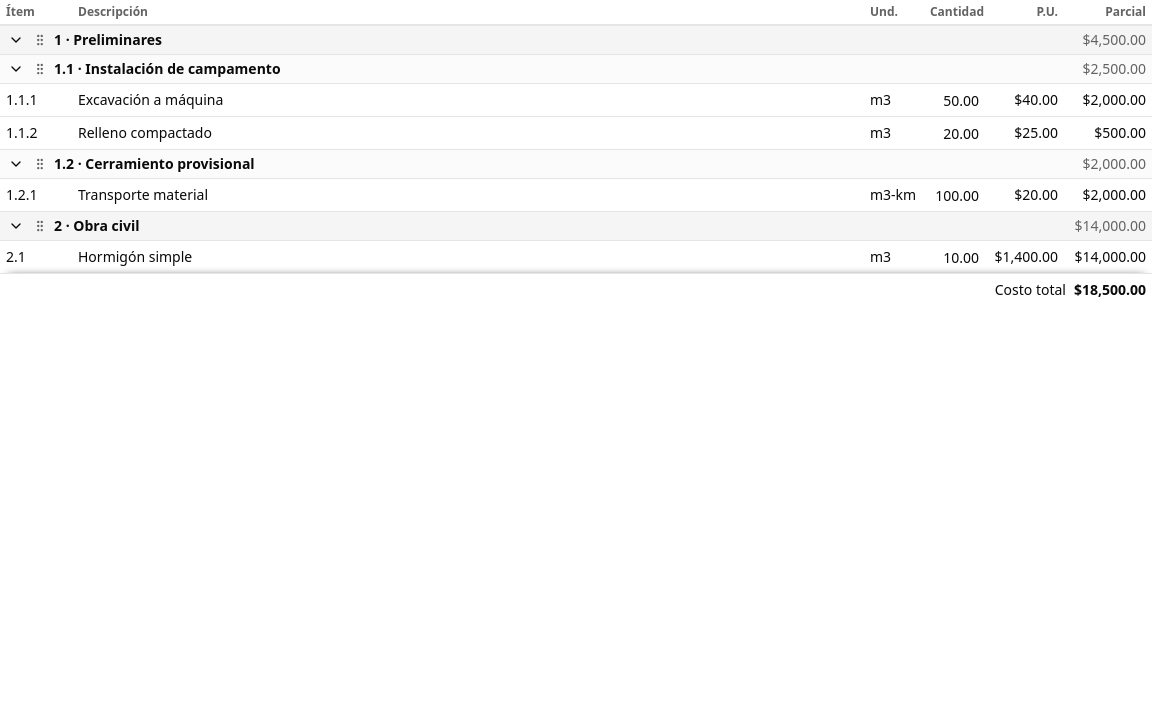
Test: PresupuestoCompacto › ofrece un menú contextual para las filas de APU y confirma su retiro
Right-click the row "1.1.1 Excavación a máquina m3 $40.00 $2,000.00".
right_click(576, 100)  # box x1=0 y1=84 x2=1151 y2=116
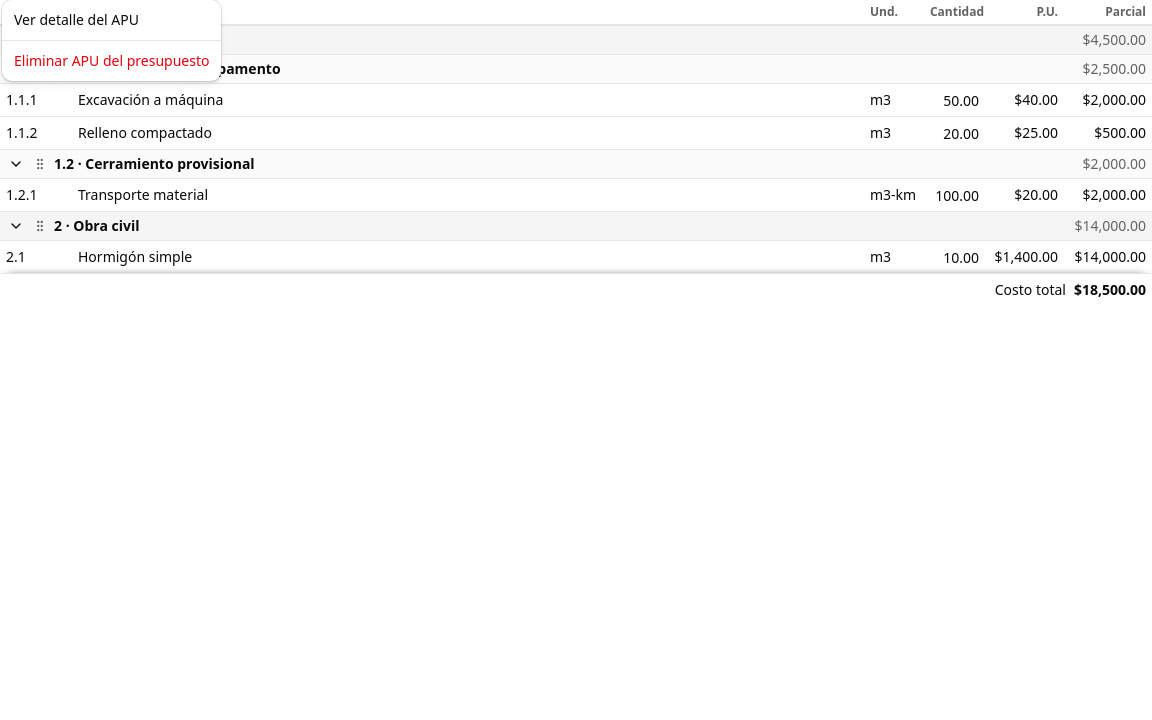
Now the menu item "Ver detalle del APU" is shown, box x1=14 y1=10 x2=139 y2=29
Click the menu item "Eliminar APU del presupuesto".
click(112, 60)  # box x1=14 y1=51 x2=210 y2=70
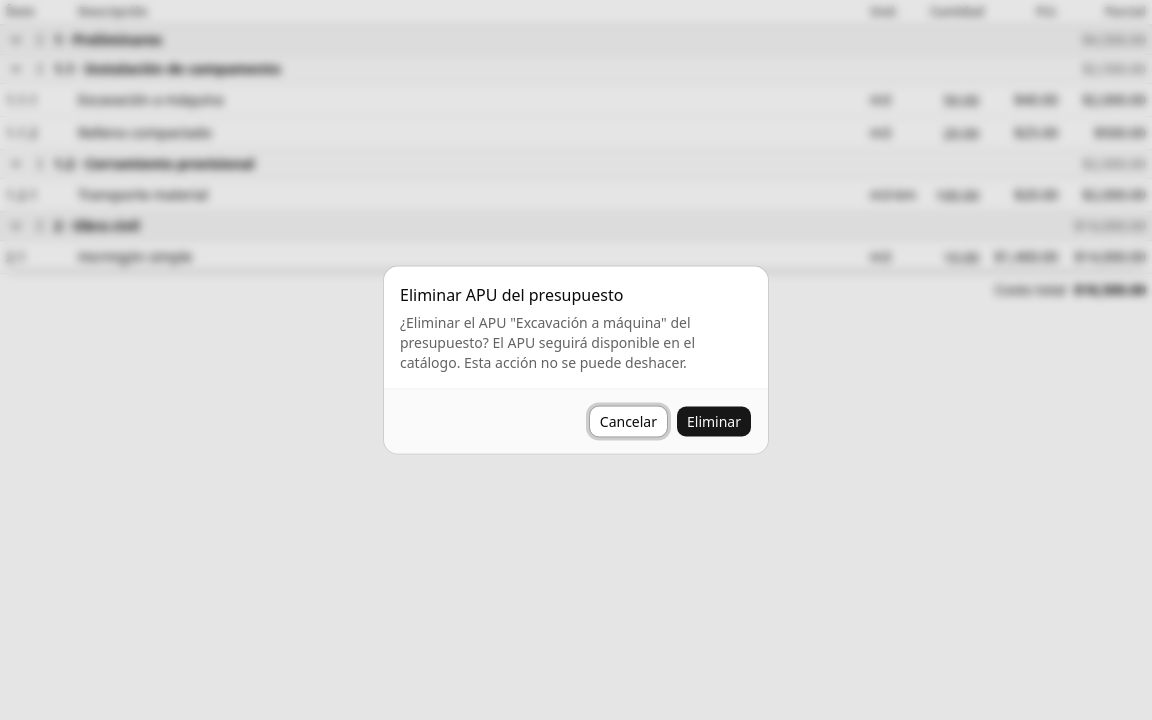
Now the dialog shows "seguirá disponible en el catálogo", box x1=400 y1=312 x2=695 y2=372
Now the dialog shows "no se puede deshacer", box x1=400 y1=312 x2=695 y2=372
